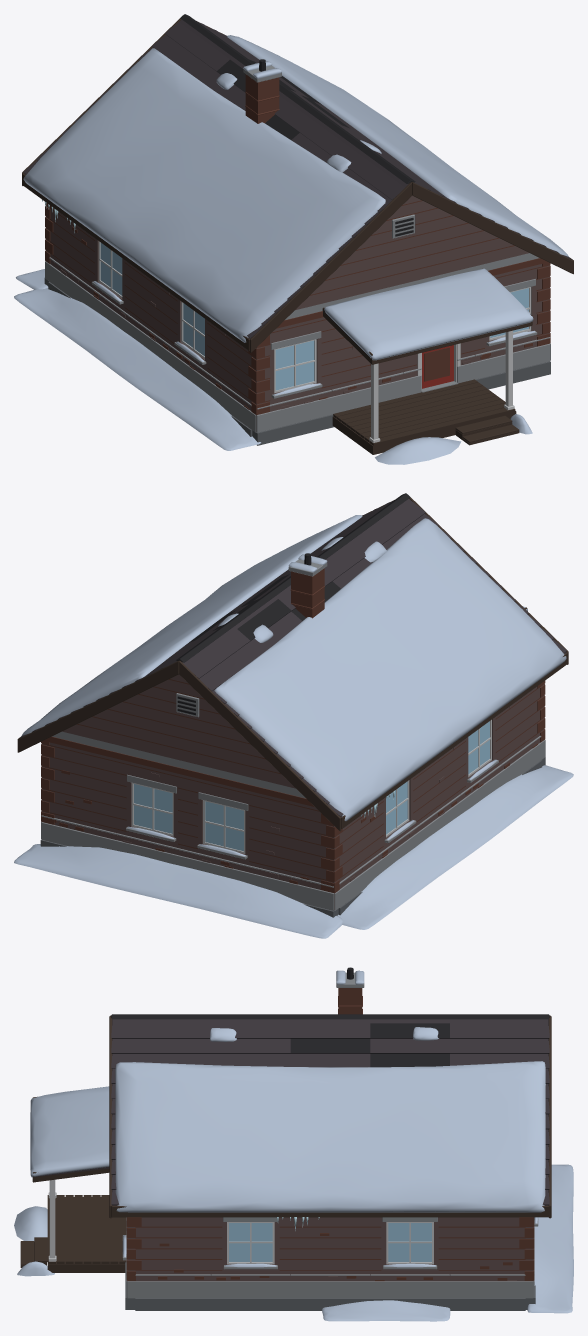
Rendered from house_small_A.glb.
3 renders of one model, top to bottom at view 1: azimuth 30°, elevation 25°; view 2: azimuth 150°, elevation 25°; view 3: azimuth 270°, elevation 25°, orthographic. The views are drawn at different scales.
Visible parts, largest first — view 1: Roof, Floor0, Walls0_S, Walls0_W, Walls0_S_Stub, Window_0, Walls0_W_Stub, Door_0, Window_7, Window_6; view 2: Roof, Walls0_N, Floor0, Walls0_W, Walls0_N_Stub, Window_2, Window_3, Walls0_W_Stub, Window_6, Window_7; view 3: Roof, Walls0_E, Floor0, Window_4, Window_5, Walls0_E_Stub, Walls0_S, Walls0_N.
Boxes of the visible parts, bbox=[...] form: Roof: bbox=[22, 14, 573, 364]; Floor0: bbox=[14, 269, 550, 464]; Walls0_S: bbox=[248, 258, 550, 432]; Walls0_W: bbox=[49, 208, 252, 428]; Walls0_S_Stub: bbox=[250, 337, 550, 431]; Window_0: bbox=[275, 340, 314, 390]; Walls0_W_Stub: bbox=[49, 257, 251, 410]; Door_0: bbox=[422, 345, 453, 388]; Window_7: bbox=[100, 242, 122, 295]; Window_6: bbox=[183, 303, 204, 356]; Roof: bbox=[17, 493, 568, 831]; Walls0_N: bbox=[41, 736, 342, 910]; Floor0: bbox=[14, 757, 573, 938]; Walls0_W: bbox=[338, 686, 540, 906]; Walls0_N_Stub: bbox=[41, 815, 338, 903]; Window_2: bbox=[205, 801, 243, 851]; Window_3: bbox=[134, 784, 172, 833]; Walls0_W_Stub: bbox=[339, 735, 541, 886]; Window_6: bbox=[468, 721, 489, 774]; Window_7: bbox=[386, 781, 407, 834]; Roof: bbox=[30, 967, 551, 1230]; Walls0_E: bbox=[135, 1217, 525, 1298]; Floor0: bbox=[14, 1164, 573, 1321]; Window_4: bbox=[229, 1223, 272, 1261]; Window_5: bbox=[388, 1223, 431, 1261]; Walls0_E_Stub: bbox=[135, 1274, 525, 1281]; Walls0_S: bbox=[122, 1217, 141, 1298]; Walls0_N: bbox=[519, 1217, 538, 1298].
Size of what is drawn, in the model's own units: 9.89 by 7.22 by 14.06.
